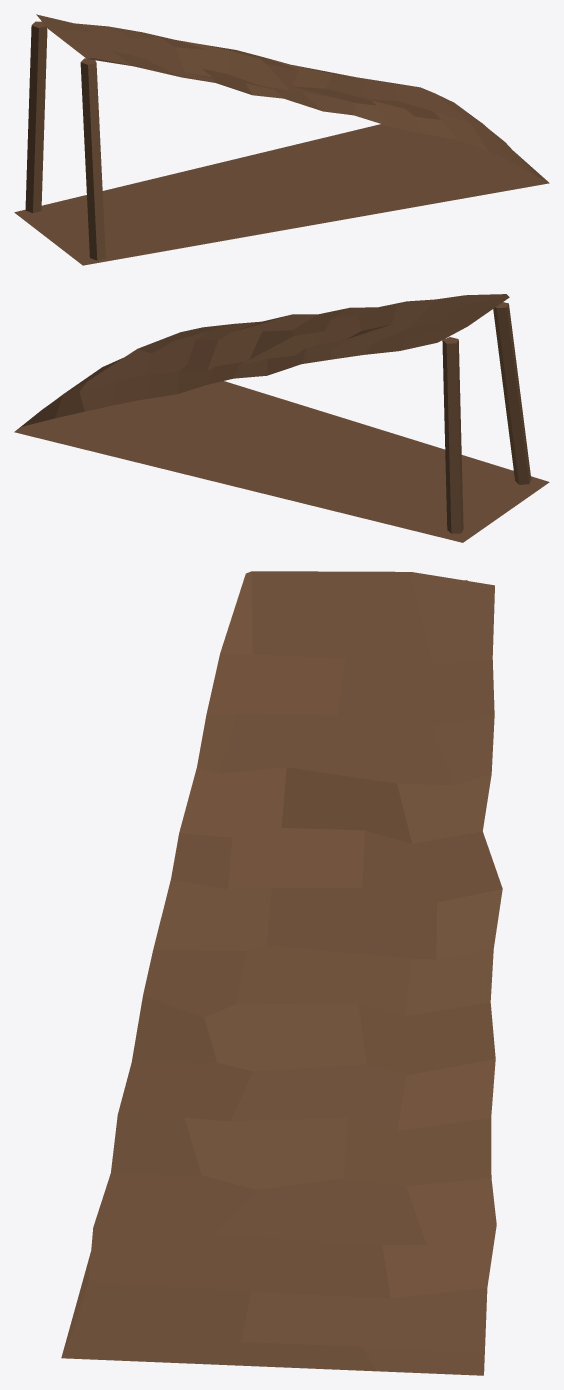
File: RampaMaderaGrande.glb
3 renders of one model, top to bottom at view 1: azimuth 30°, elevation 25°; view 2: azimuth 150°, elevation 25°; view 3: azimuth 270°, elevation 25°, orthographic. The views are drawn at different scales.
Parts seen in each view (by area): view 1: RampaGrande, Sosten2, Sosten1; view 2: RampaGrande, Sosten1, Sosten2; view 3: RampaGrande.
Part boxes in pixels (x1,y1,x2,y2): RampaGrande: (14, 14, 549, 265); Sosten2: (80, 58, 105, 260); Sosten1: (25, 21, 47, 212); RampaGrande: (14, 294, 549, 542); Sosten1: (442, 337, 463, 533); Sosten2: (493, 302, 531, 484); RampaGrande: (61, 571, 502, 1375).
Size of the model in its own units: 6.13 by 2.54 by 2.61.
